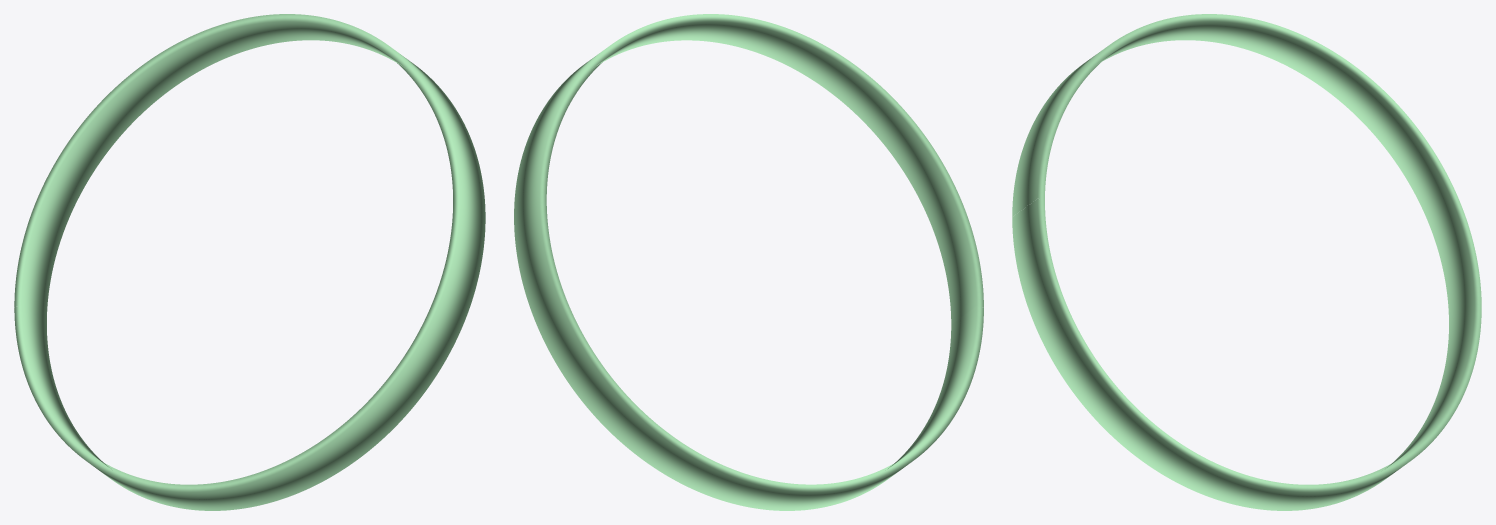
The model's file is coil_coil_4_tube.gltf.
3 views of the same model, side by side, from view 1: azimuth 30°, elevation 25°; view 2: azimuth 150°, elevation 25°; view 3: azimuth 330°, elevation 25° (orthographic).
Visible parts, largest first — view 1: Renderer Node; view 2: Renderer Node; view 3: Renderer Node.
Boxes of the visible parts, x1,y1,x2,y2 form: Renderer Node: (14, 14, 485, 510); Renderer Node: (514, 14, 983, 510); Renderer Node: (1012, 14, 1481, 510).
Size of the model in its own units: 0.6102 by 0.6101 by 0.0624.
